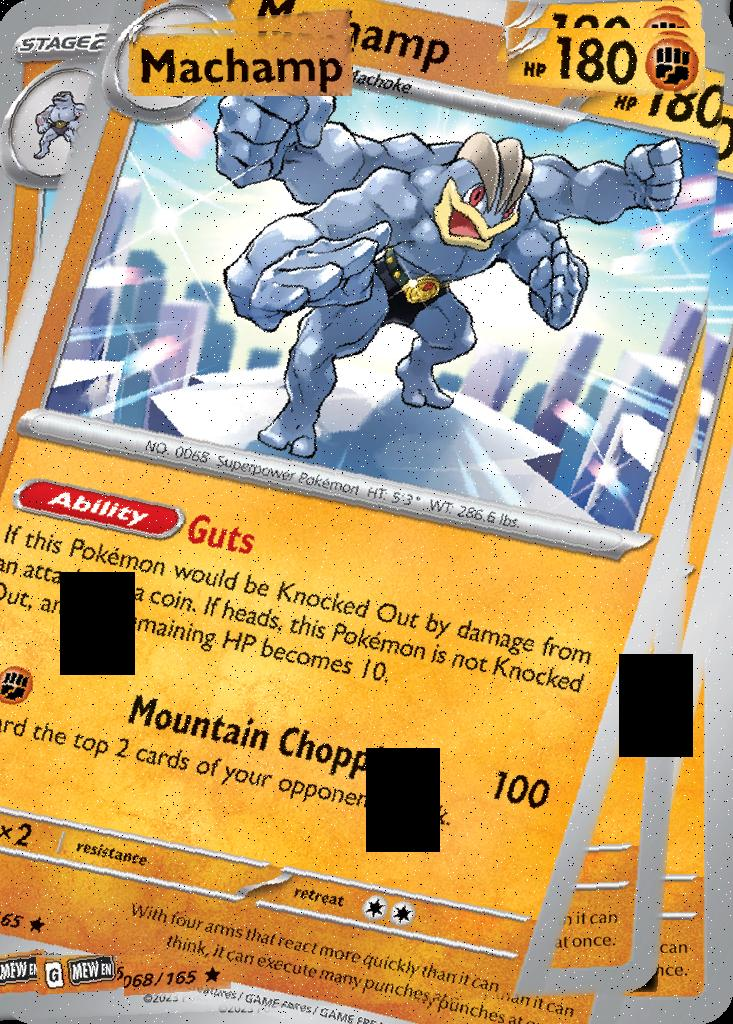card: (0, 0, 733, 1024)
hp: (505, 28, 705, 99)
name: (134, 26, 355, 97)
set num: (124, 964, 233, 996)
set symbol: (37, 956, 118, 996)
